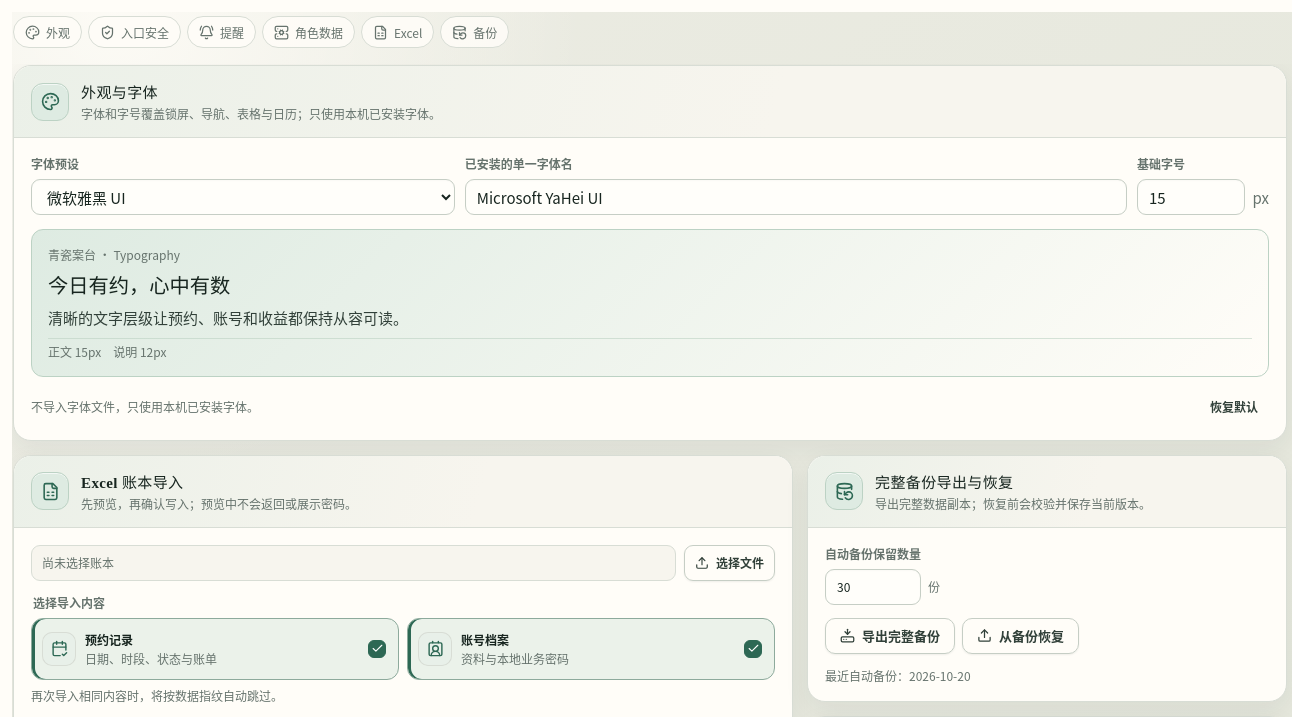
it: SettingsWorkspace operation progress › commits only the selected import data type and updates the matching revision
Click the checkbox named "导入账号档案": click(435, 649) [407,618,775,680]
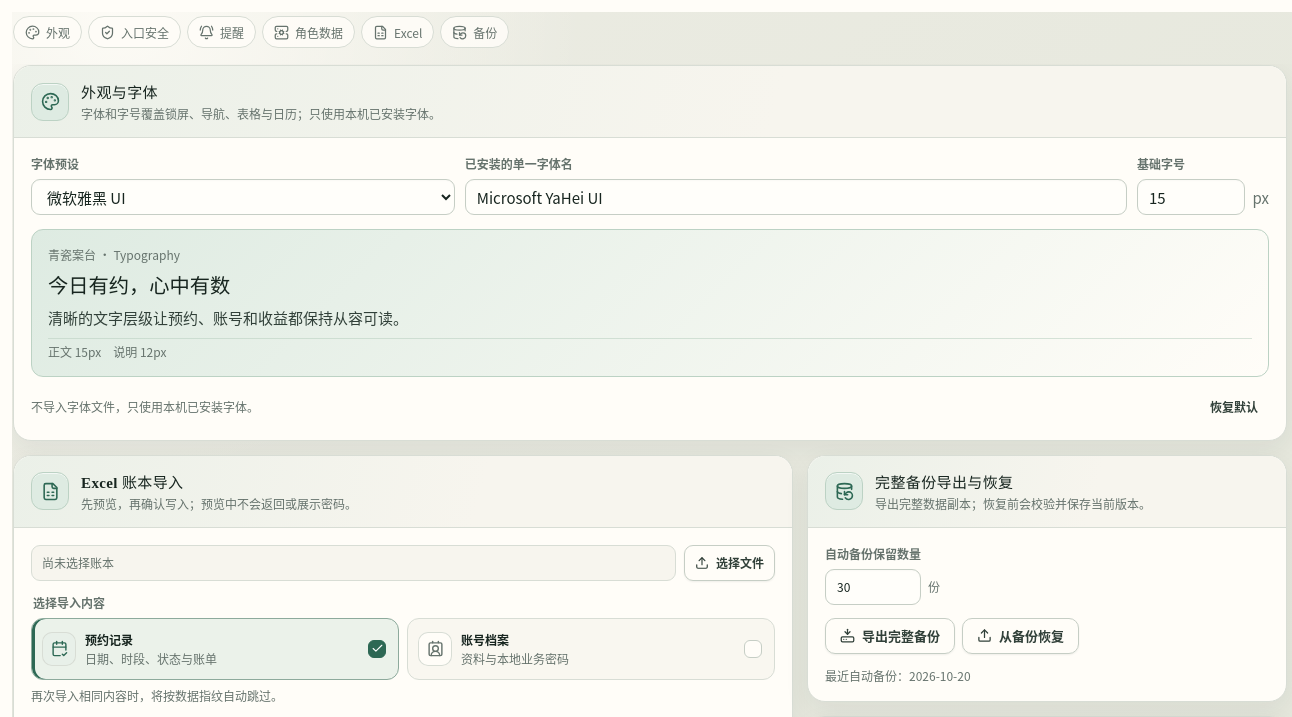
Click the button "选择文件": click(730, 563) [684,545,775,581]
(page scrolled)
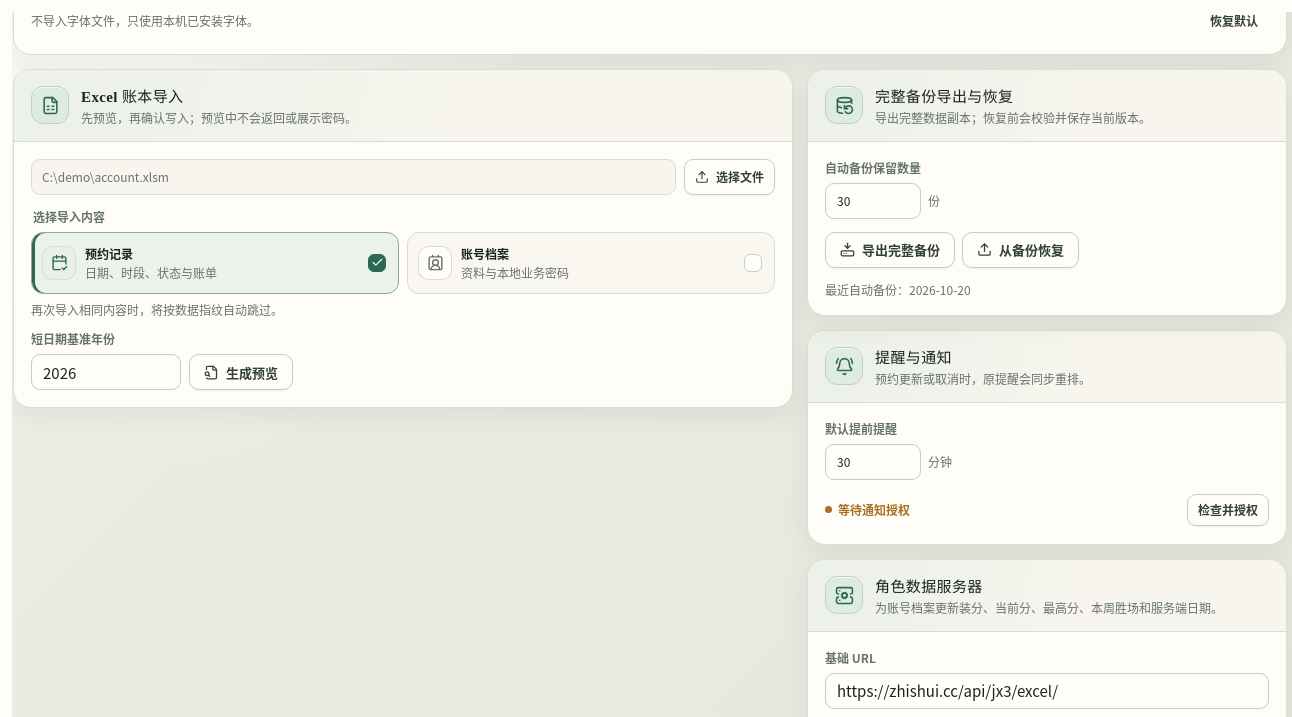
Click the button "生成预览": click(241, 372) [189,354,293,390]
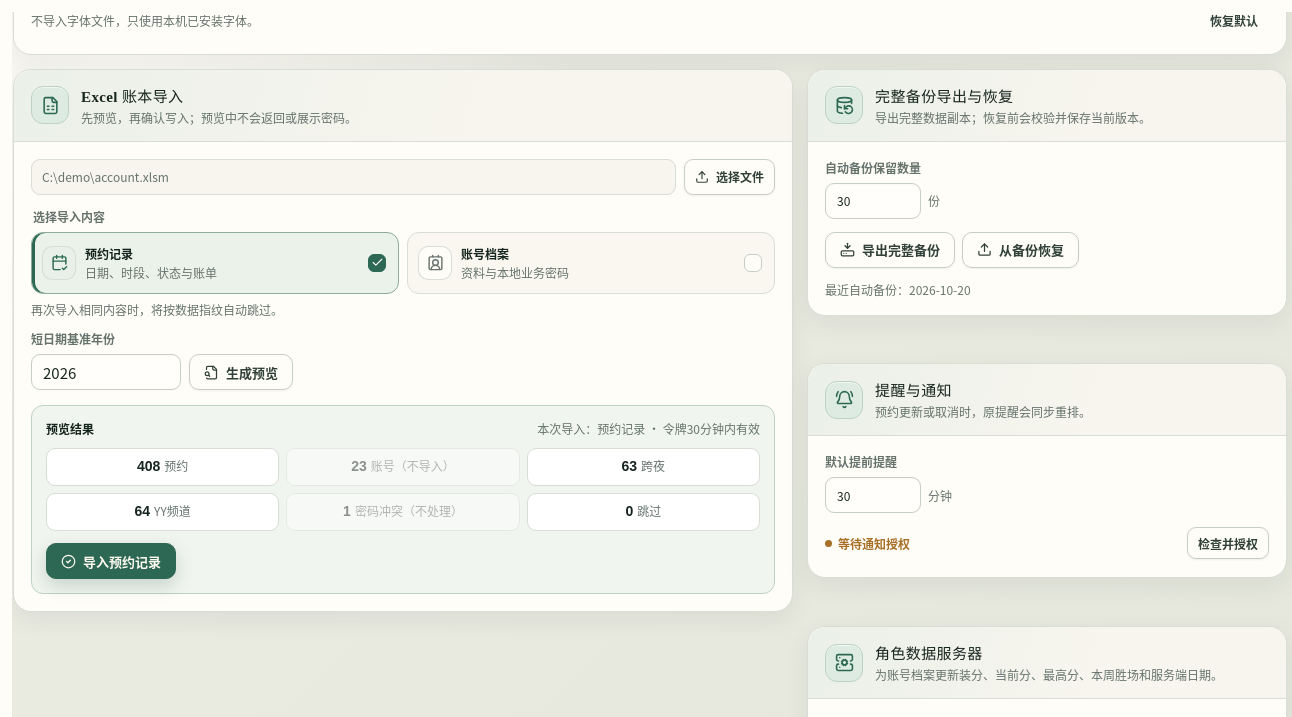
Click the button "导入预约记录": click(111, 561) [46,543,176,579]
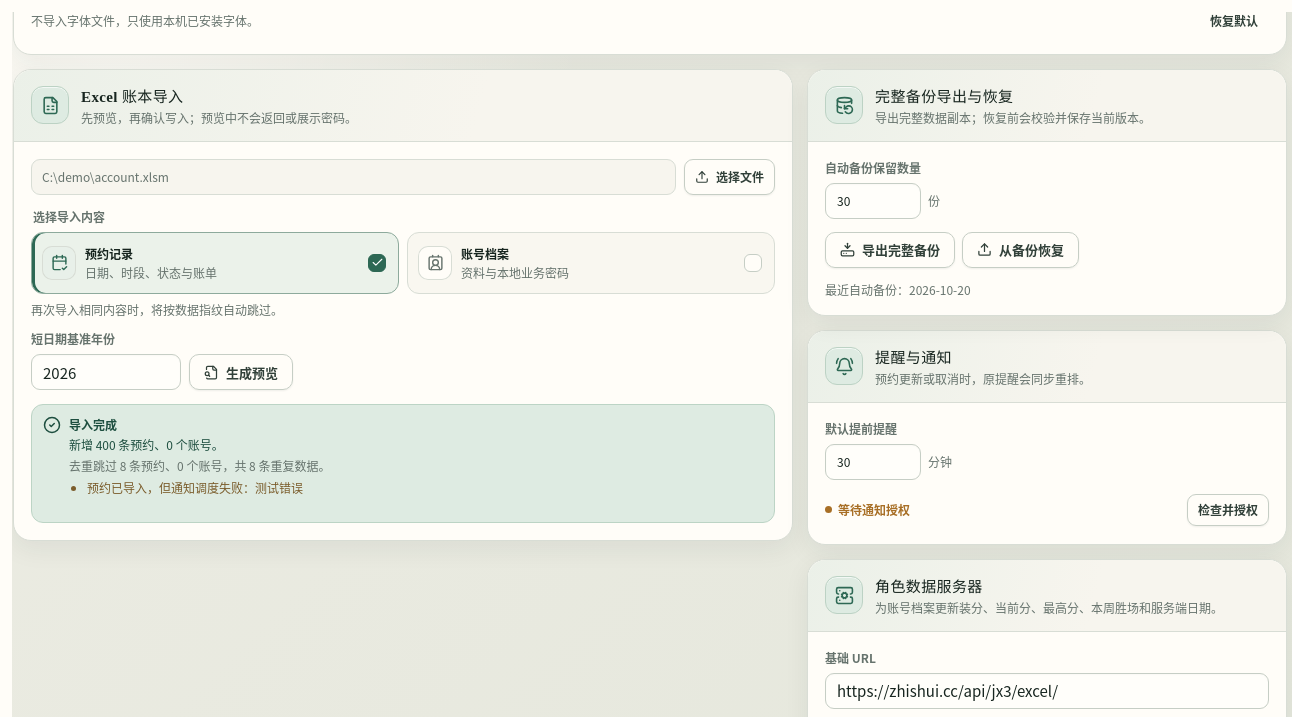
expect the text "去重跳过 8 条预约、0 个账号" is shown: met, box [69,457,330,474]
expect the text "预约已导入，但通知调度失败：测试错误" is shown: met, box [87,478,330,498]
